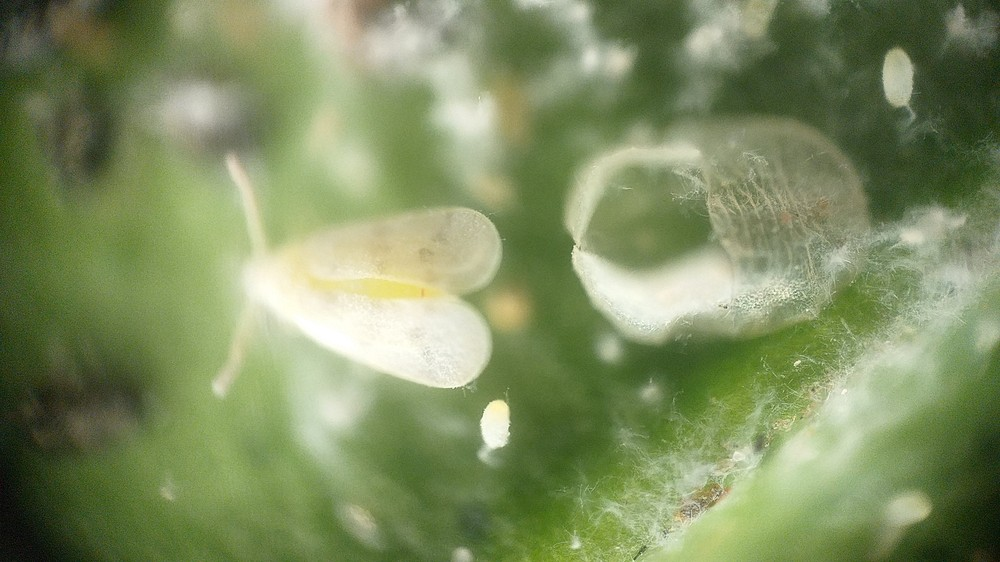Mosca Blanca: (176, 131, 529, 437)
